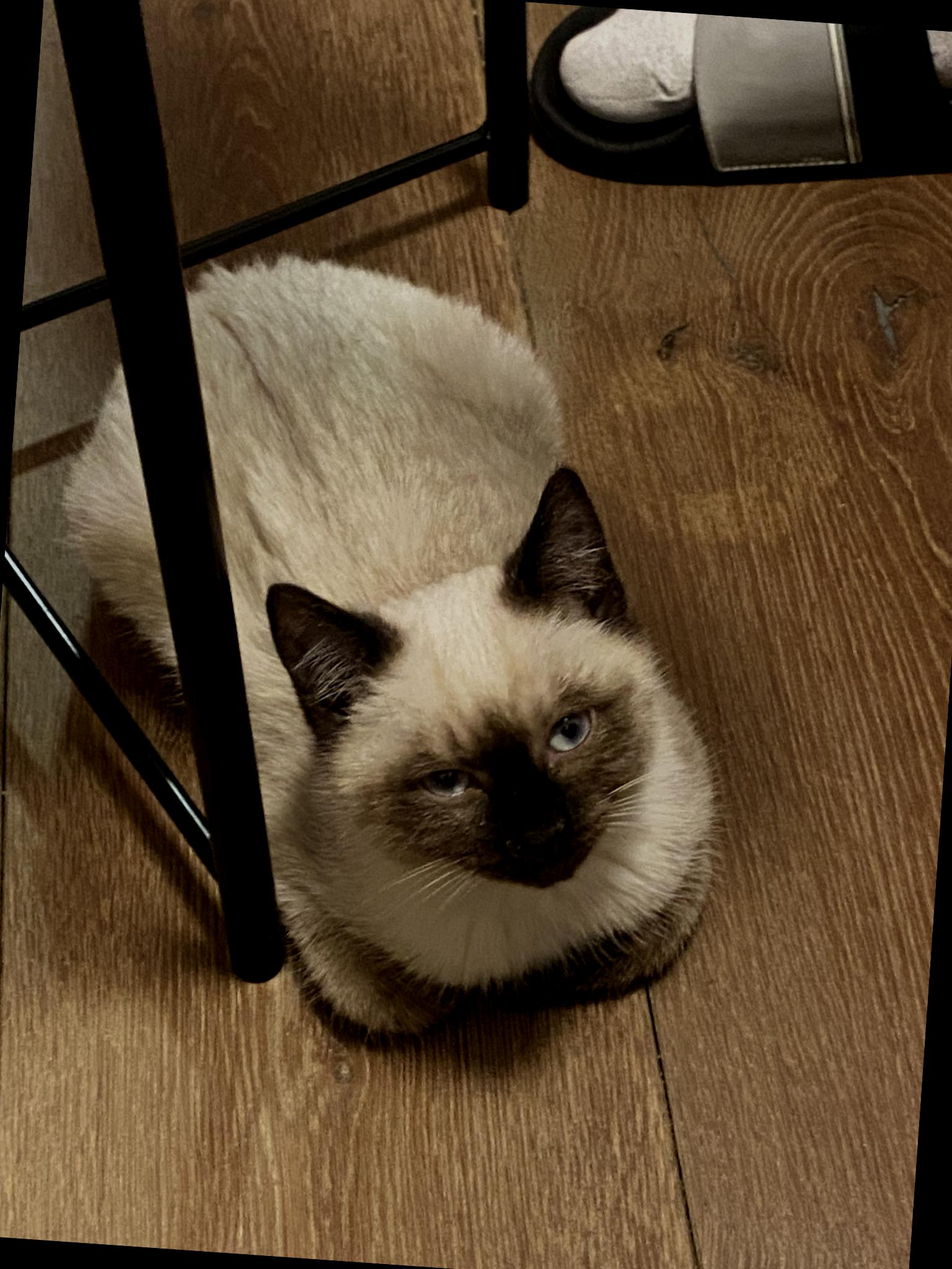macka: (23, 238, 757, 1070)
